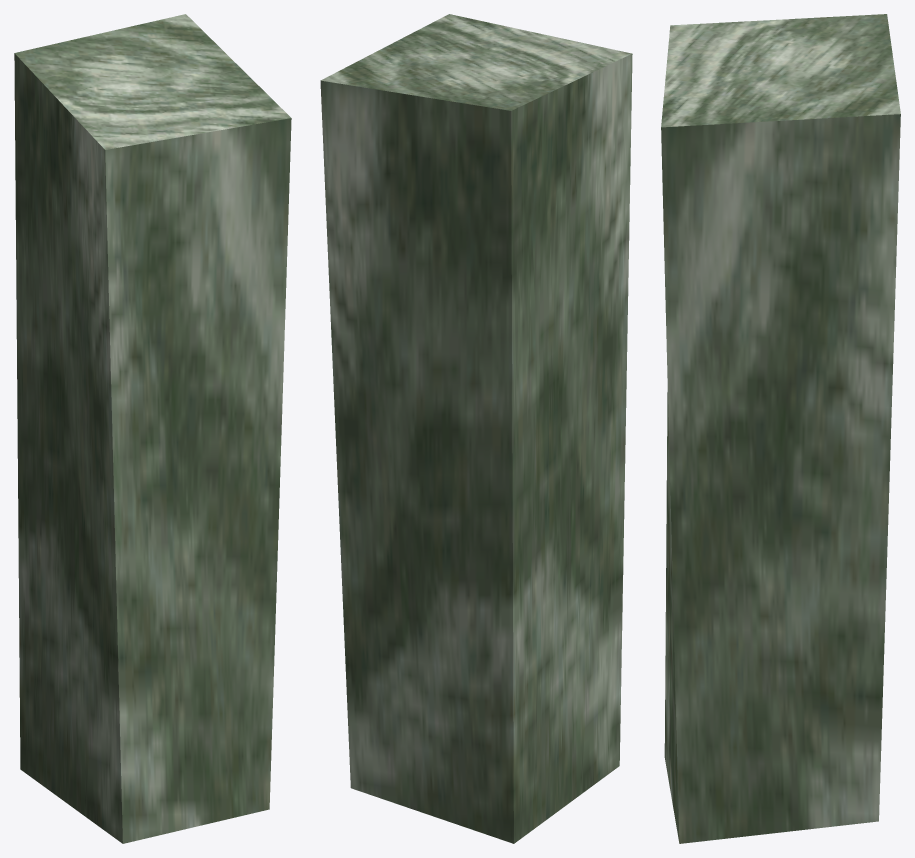
File: Fence3.glb
3 renders of one model, left to right at view 1: azimuth 30°, elevation 25°; view 2: azimuth 150°, elevation 25°; view 3: azimuth 270°, elevation 25°, orthographic. The views are drawn at different scales.
Parts seen in each view (by area): view 1: Fence3; view 2: Fence3; view 3: Fence3.
Boxes of the visible parts, box(x1,y1,x2,y2) form: Fence3: box(14, 14, 291, 843); Fence3: box(320, 14, 632, 843); Fence3: box(661, 14, 900, 843).
Bounding box in the file's own units: 0.377 × 1.36 × 0.3927.
Materials: 1 (1 with a texture image).
